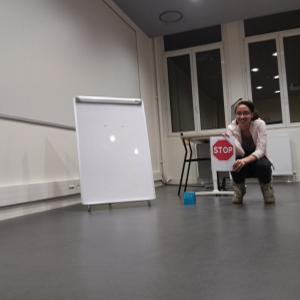stop: (212, 139, 236, 161)
